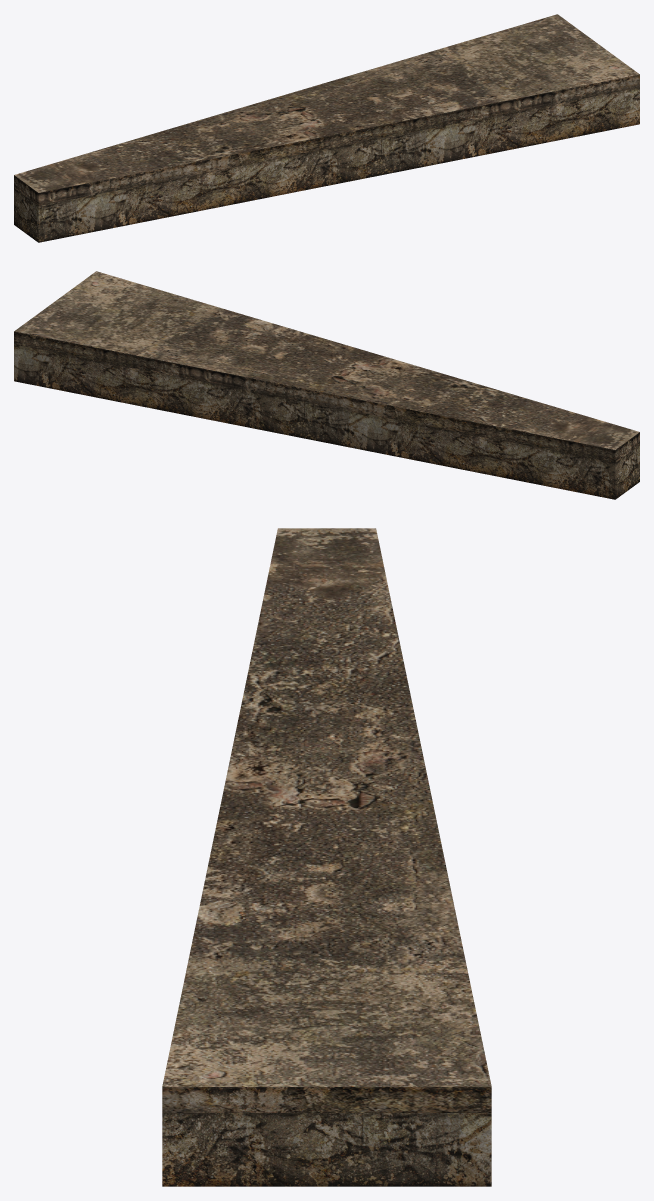
File: materials_5_steps_8.fbx
3 renders of one model, top to bottom at view 1: azimuth 30°, elevation 25°; view 2: azimuth 150°, elevation 25°; view 3: azimuth 270°, elevation 25°, orthographic. The views are drawn at different scales.
Parts seen in each view (by area): view 1: materials_5_steps_8; view 2: materials_5_steps_8; view 3: materials_5_steps_8.
Part boxes in pixels (box(x1,y1,x2,y2)): materials_5_steps_8: box(14, 14, 639, 242); materials_5_steps_8: box(14, 271, 639, 499); materials_5_steps_8: box(162, 528, 491, 1186).
Size of the model in its own units: 84.56 by 7.03 by 21.08.
